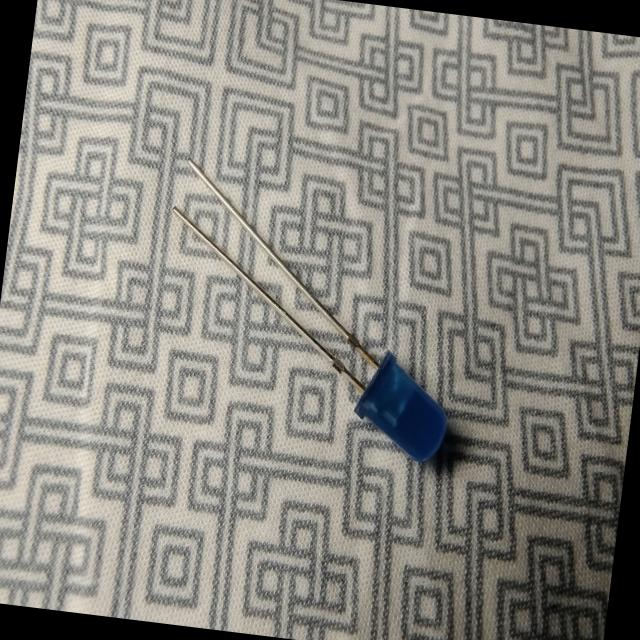blue_led: (347, 345, 455, 466)
